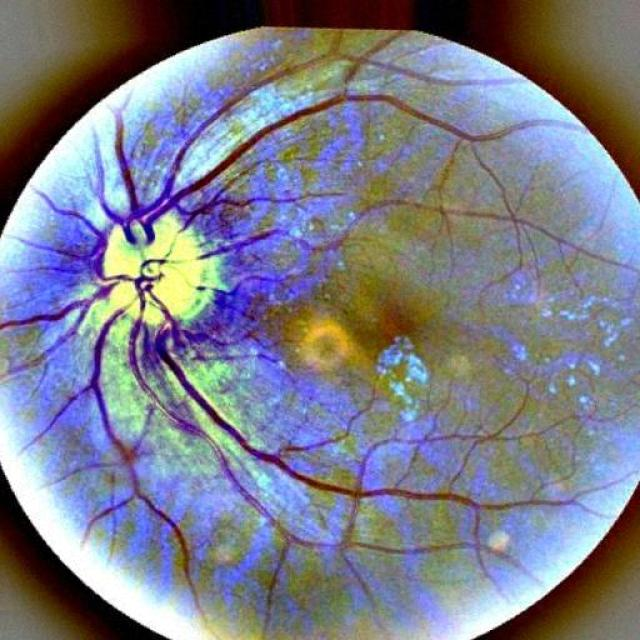Macula: (351, 287, 424, 356)
Nerves: (126, 280, 579, 557), (130, 51, 528, 227)
Optic Disk: (87, 208, 220, 340)
